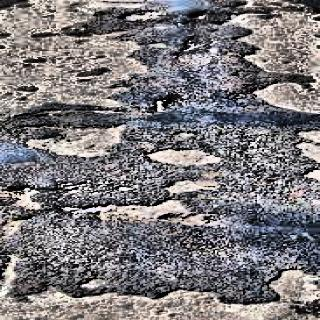pothole: (0, 254, 320, 320), (4, 1, 145, 121), (145, 142, 222, 171)
